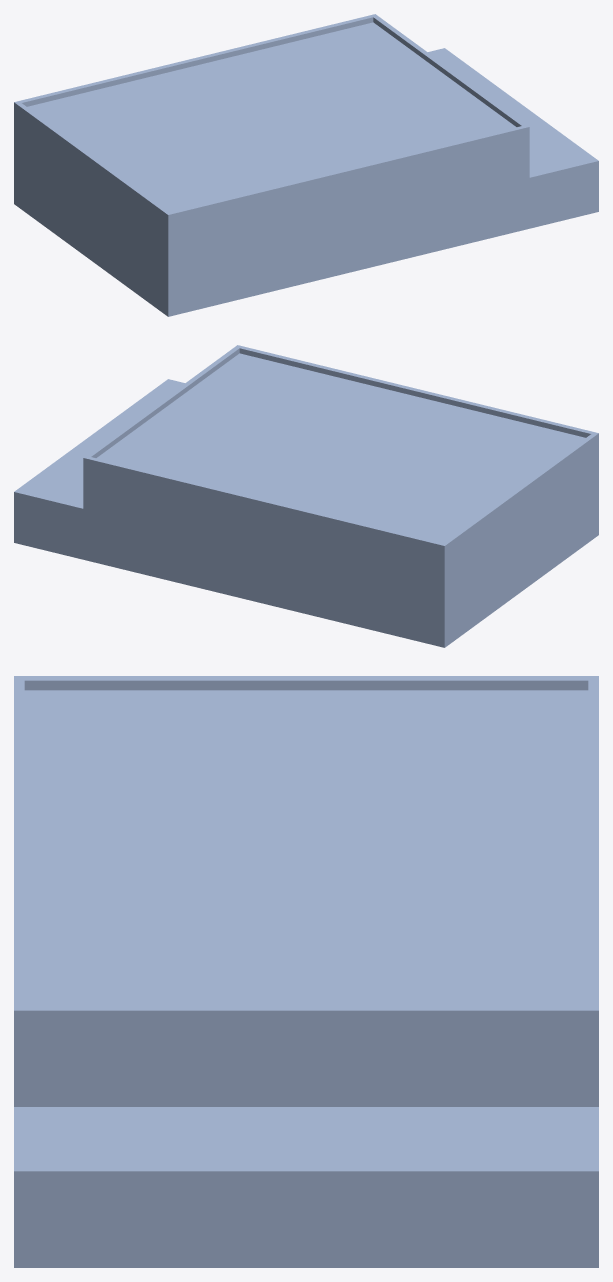
File: Sludge_Thickener.glb
The picture shows the model from 3 angles, top to bottom: view 1: azimuth 30°, elevation 25°; view 2: azimuth 150°, elevation 25°; view 3: azimuth 270°, elevation 25°; orthographic projection. The views are drawn at different scales.
Parts seen in each view (by area): view 1: Floor1; view 2: Floor1; view 3: Floor1.
Boxes of the visible parts, bbox=[...] form: Floor1: bbox=[14, 14, 598, 316]; Floor1: bbox=[14, 345, 598, 647]; Floor1: bbox=[14, 676, 598, 1267].
Size of the model in its own units: 35.4 by 8 by 21.95.
